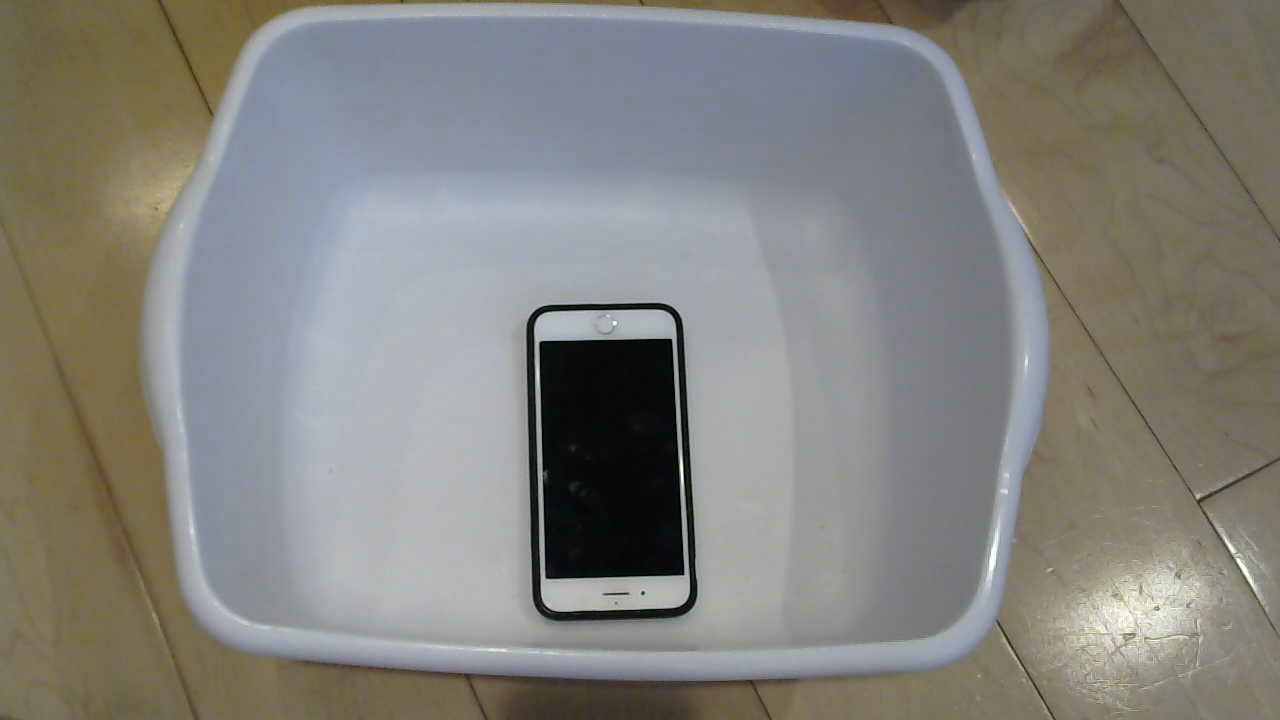phone: (520, 300, 705, 621)
